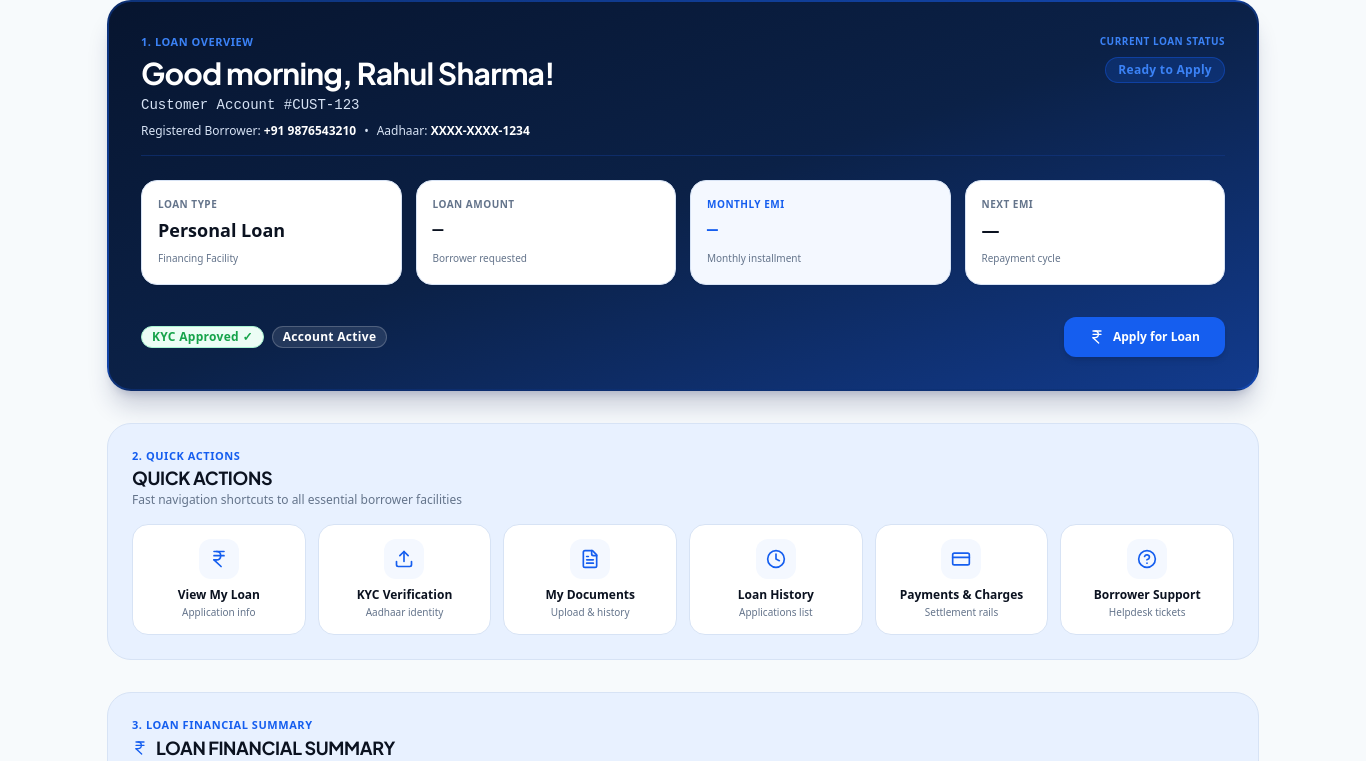
it: Customer Portal Redesign & Loan Flow Synchronization Suite › TEST 5: State 3 (KYC Approved + All Docs Complete) clicking Apply for Loan opens Submit Loan Application modal
Click the button with test id "hero-apply-loan-btn".
click(1144, 336)  # box [1064,316,1225,356]
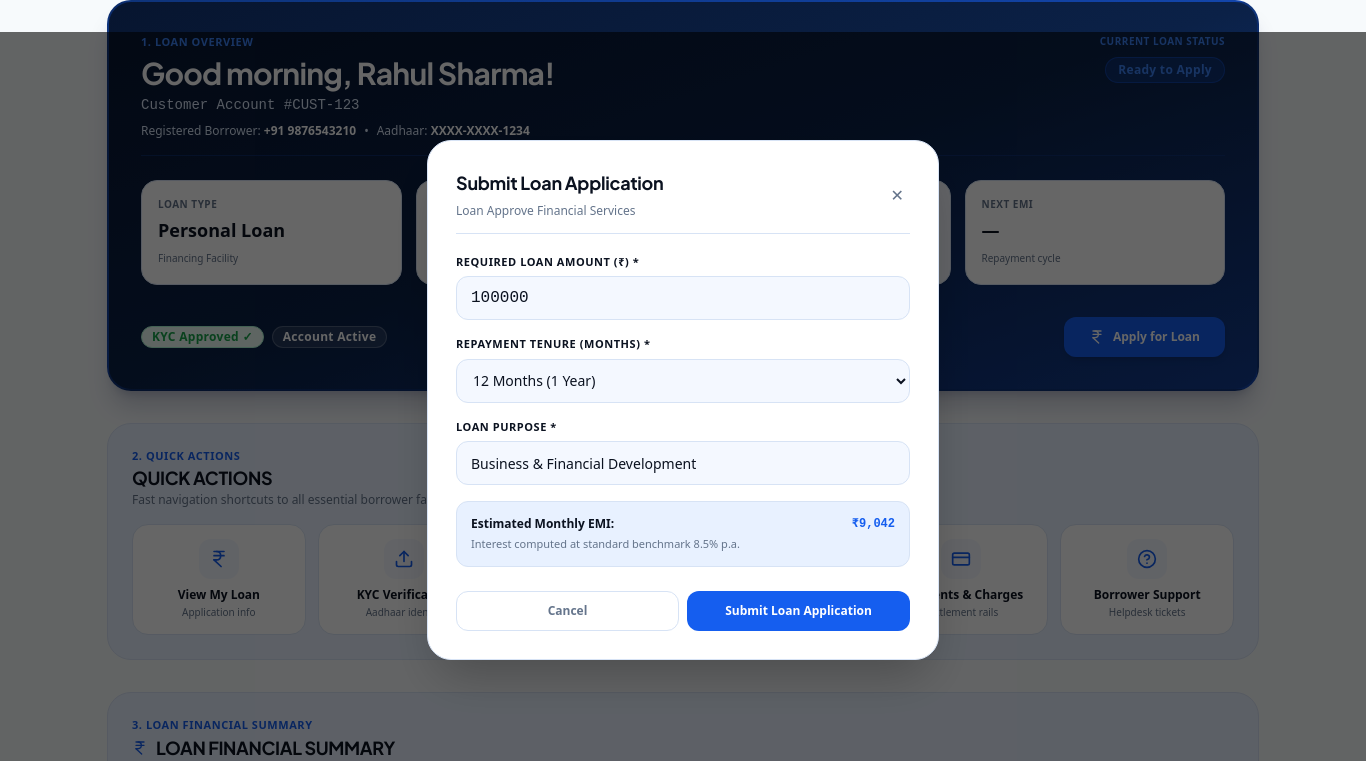
Now the heading "Submit Loan Application" is shown, box [456,169,664,197]
Now the number field labelled "Required Loan Amount (₹) *" is shown, box [456,276,910,320]
Now the dropdown labelled "Repayment Tenure (Months) *" is shown, box [456,359,910,403]
